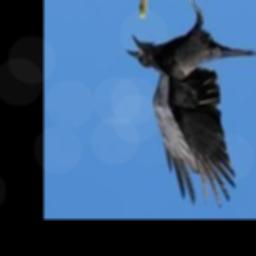Crow: (125, 0, 256, 205)
